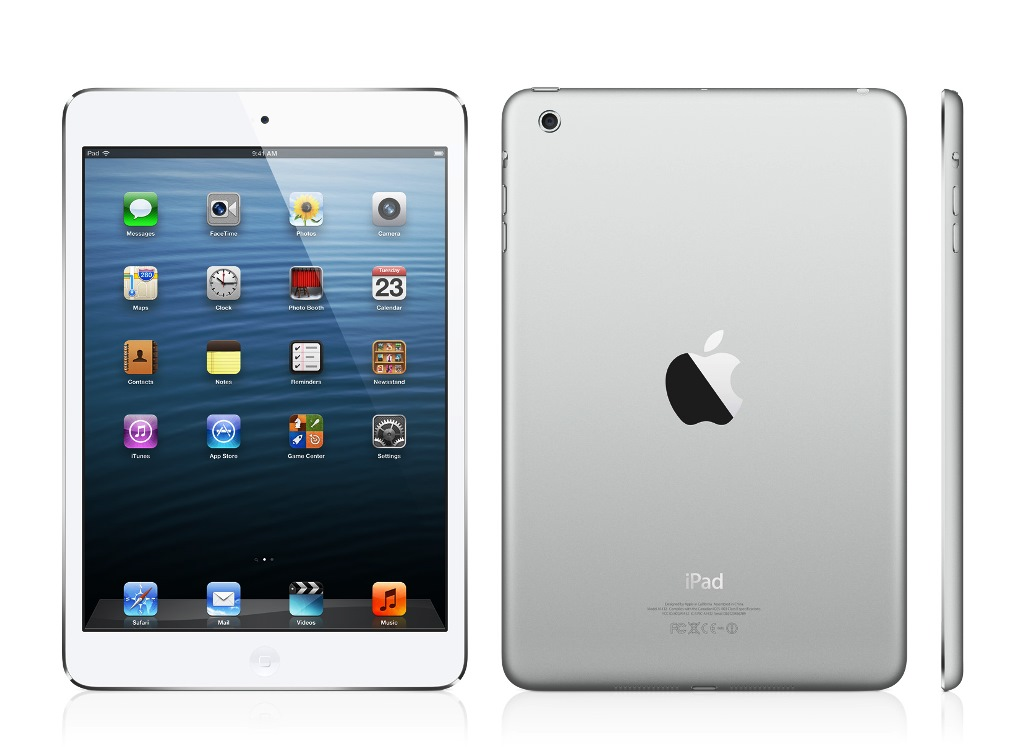Apple: (638, 323, 782, 442), (676, 556, 736, 599)
